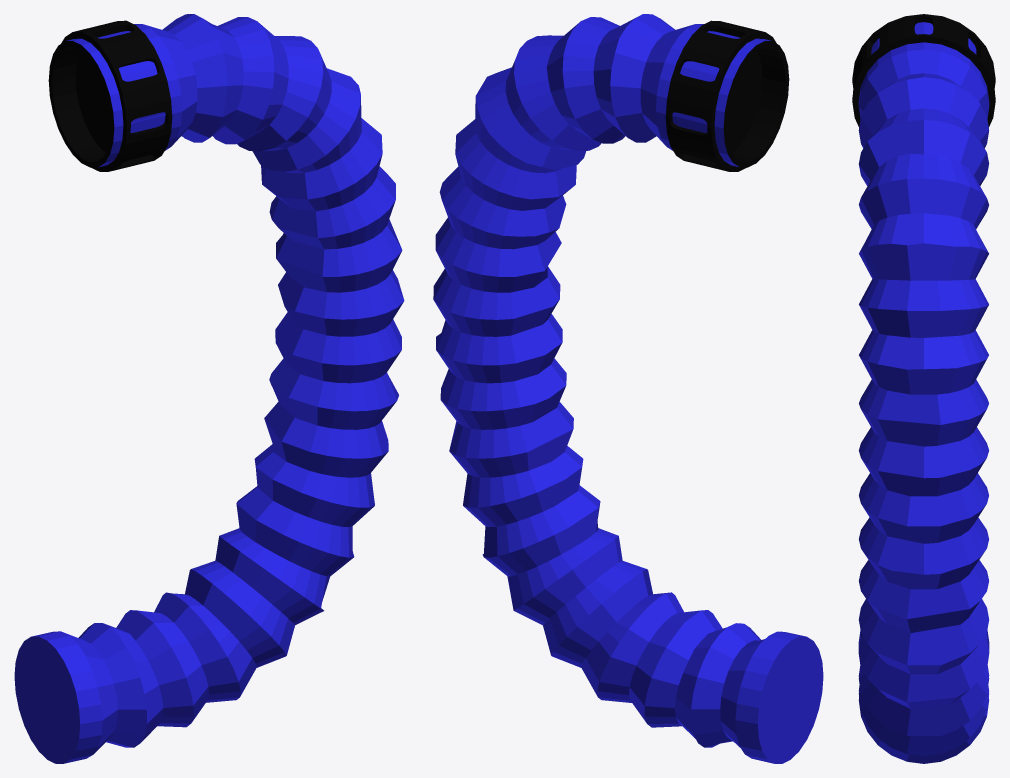
The model's file is Vacuum cleaner.fbx.
The picture shows the model from 3 angles, left to right: view 1: azimuth 30°, elevation 25°; view 2: azimuth 150°, elevation 25°; view 3: azimuth 270°, elevation 25°; orthographic projection.
Visible parts, largest first — view 1: Vacuum Cleaner; view 2: Vacuum Cleaner; view 3: Vacuum Cleaner.
Part boxes in pixels (<box>): Vacuum Cleaner: <box>14,14,404,763</box>; Vacuum Cleaner: <box>433,14,823,763</box>; Vacuum Cleaner: <box>852,14,995,763</box>.
Size of the model in its own units: 3.08 by 5.99 by 1.1.
